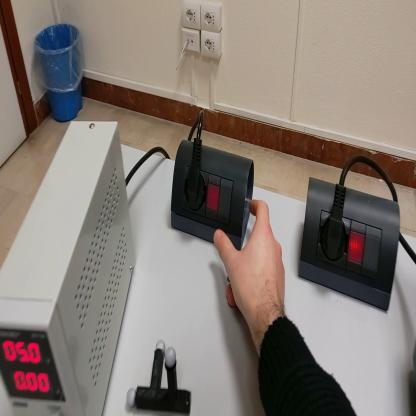hand: (216, 197, 287, 326)
power supply: (1, 121, 142, 414)
socket: (300, 176, 401, 315), (170, 140, 255, 252)
